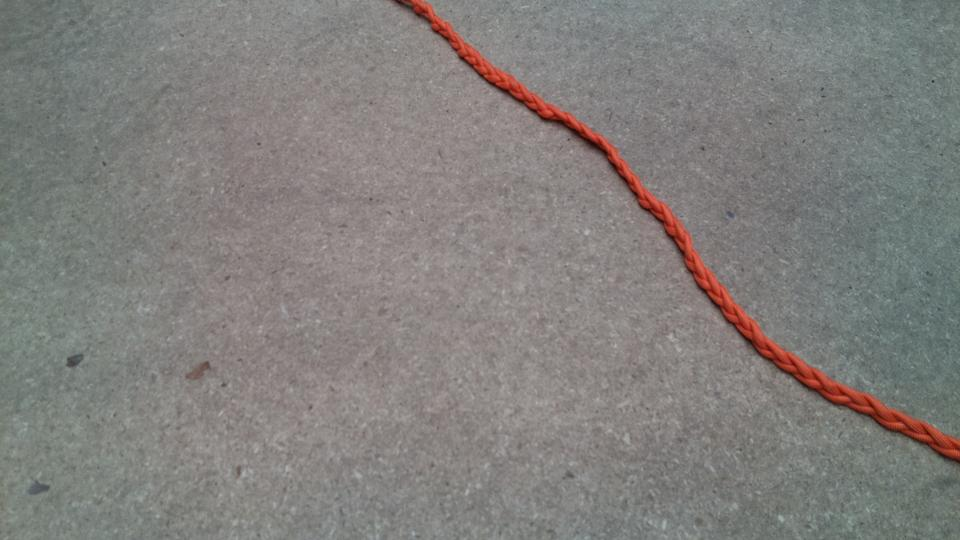rope: (423, 1, 960, 449)
